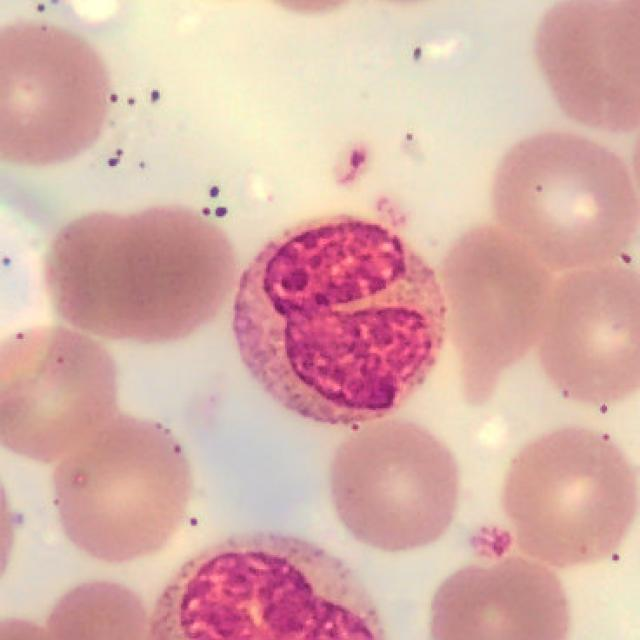Bastonete: (231, 216, 449, 431)
